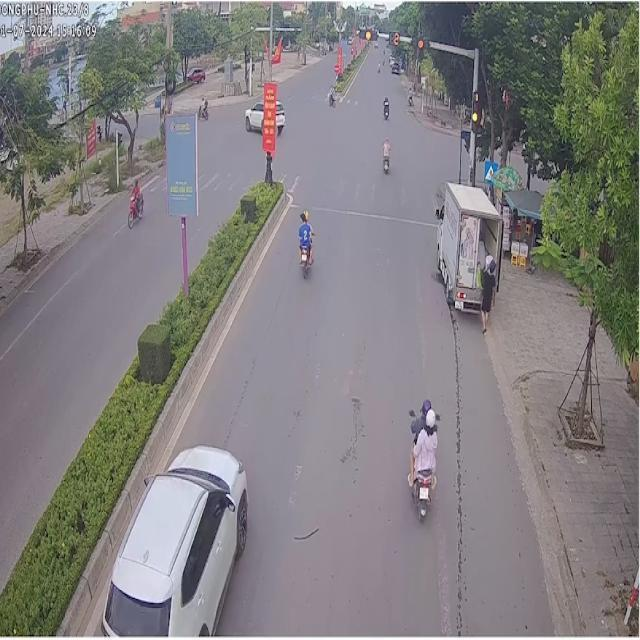car: (100, 448, 246, 635), (434, 180, 498, 309)
motobike: (406, 400, 436, 515), (297, 209, 312, 273), (380, 136, 389, 171)
stop_line: (287, 202, 453, 228)
yellow_light: (469, 89, 479, 132), (356, 24, 376, 39), (382, 31, 387, 36)
